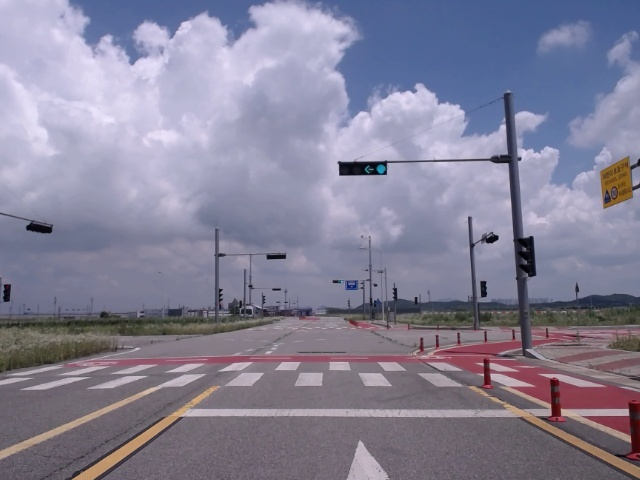all_green_4: (339, 159, 390, 176)
